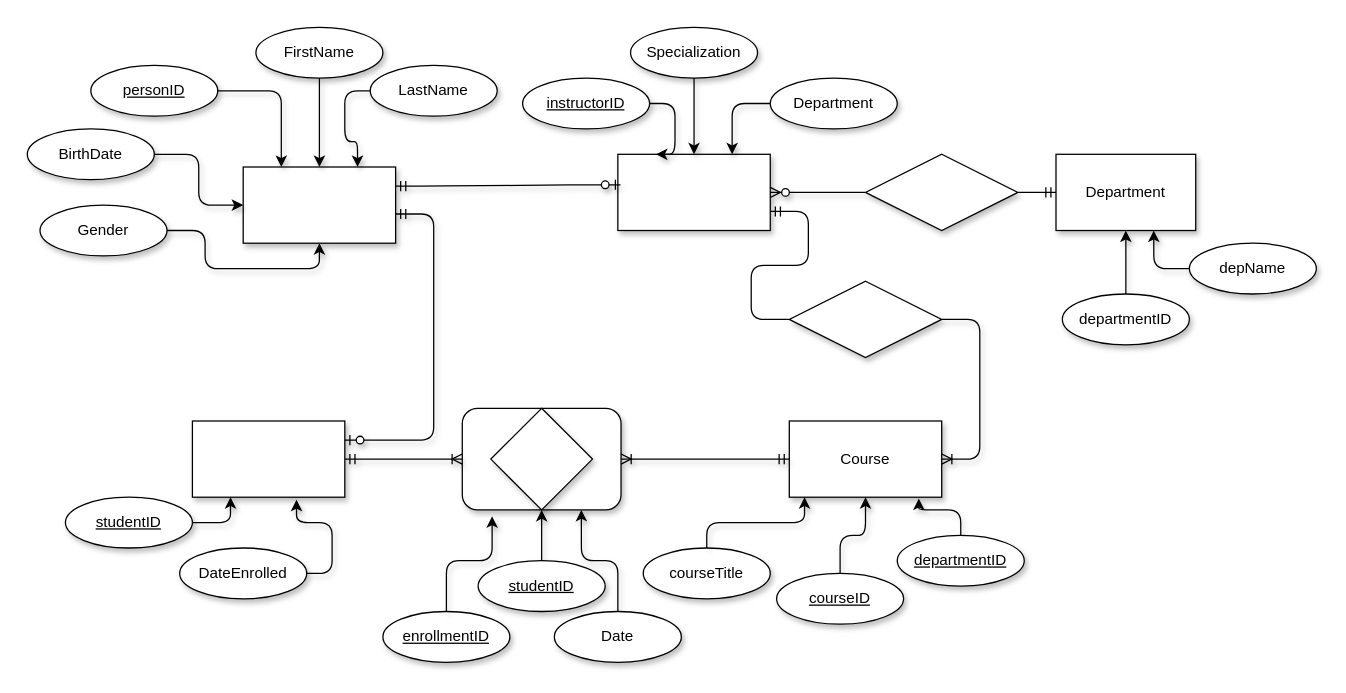
This 1346x693 diagram has some shape labels left out. The centre of each missing label's shape, as x and y in pixels:
"Enrollment" belongs at (542,460).
"Instructor" belongs at (695,193).
"Person" belongs at (320,206).
"report" belongs at (942,193).
"Student" belongs at (269,460).
"teach" belongs at (866,320).
